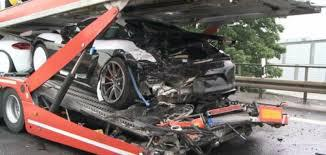rear-bumper-dent: (153, 78, 224, 104)
